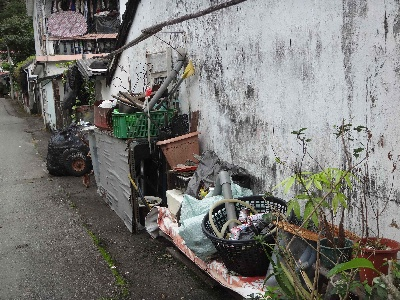plastic_bag: (186, 148, 256, 202), (46, 125, 91, 178)
